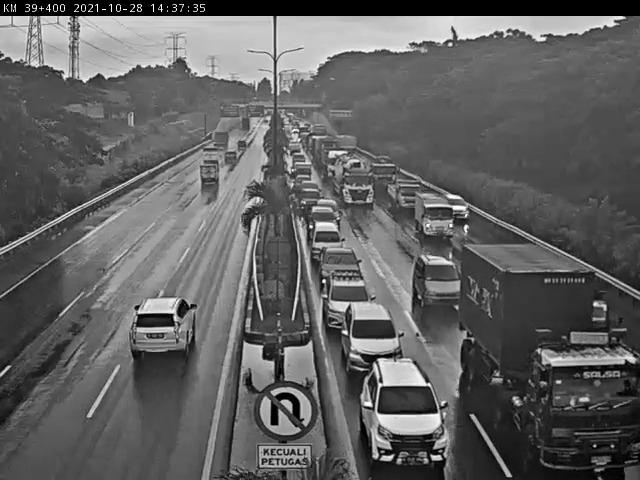big truck: (458, 240, 635, 451)
car: (106, 281, 207, 385), (364, 348, 451, 455), (347, 295, 404, 376), (324, 270, 375, 330), (413, 244, 455, 299), (319, 241, 371, 284), (306, 219, 348, 259), (309, 202, 335, 239), (446, 191, 470, 225), (197, 162, 219, 191), (300, 179, 322, 208), (290, 166, 313, 190), (219, 147, 236, 170)
small truck: (413, 188, 446, 236), (339, 167, 376, 206), (386, 176, 416, 211), (370, 156, 394, 186)
